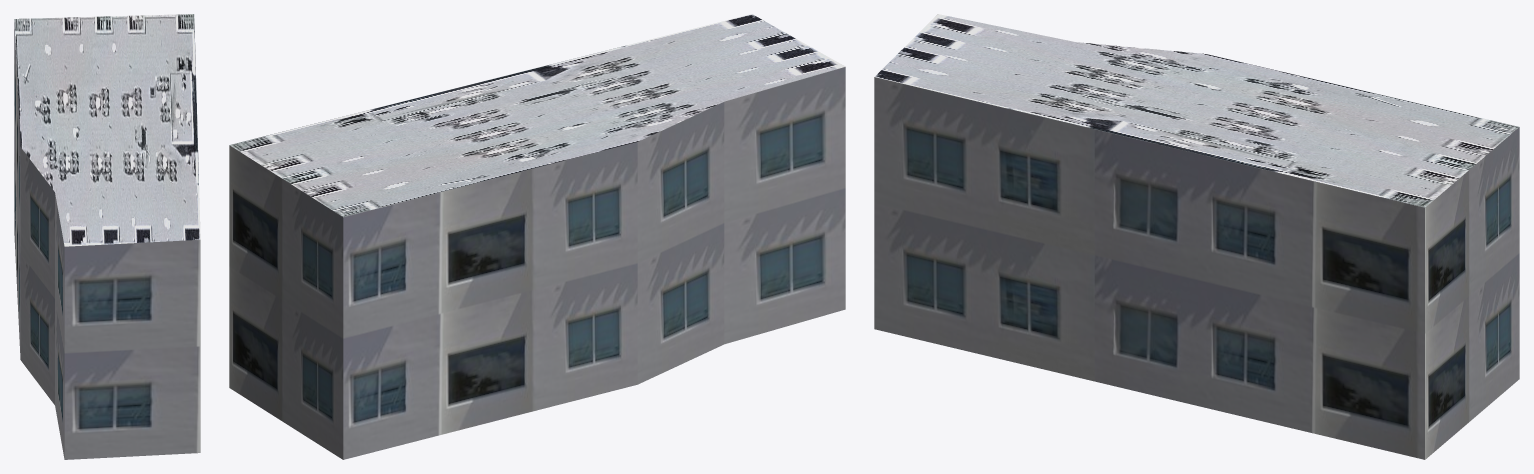
File: ResTex__4354.fbx
The picture shows the model from 3 angles, left to right: view 1: azimuth 30°, elevation 25°; view 2: azimuth 150°, elevation 25°; view 3: azimuth 270°, elevation 25°; orthographic projection. The views are drawn at different scales.
Parts seen in each view (by area): view 1: CityEngineMaterial_10_m, CityEngineMaterial_2_m; view 2: CityEngineMaterial_10_m, CityEngineMaterial_2_m; view 3: CityEngineMaterial_10_m, CityEngineMaterial_2_m.
Boxes of the visible parts, bbox=[...] form: CityEngineMaterial_10_m: bbox=[14, 22, 200, 459]; CityEngineMaterial_2_m: bbox=[14, 14, 200, 246]; CityEngineMaterial_10_m: bbox=[229, 67, 845, 459]; CityEngineMaterial_2_m: bbox=[229, 14, 845, 217]; CityEngineMaterial_10_m: bbox=[874, 77, 1519, 459]; CityEngineMaterial_2_m: bbox=[875, 14, 1518, 207].
Bounding box in the file's own units: 9.89 × 6 × 13.91.
2 materials, 2 textured.
